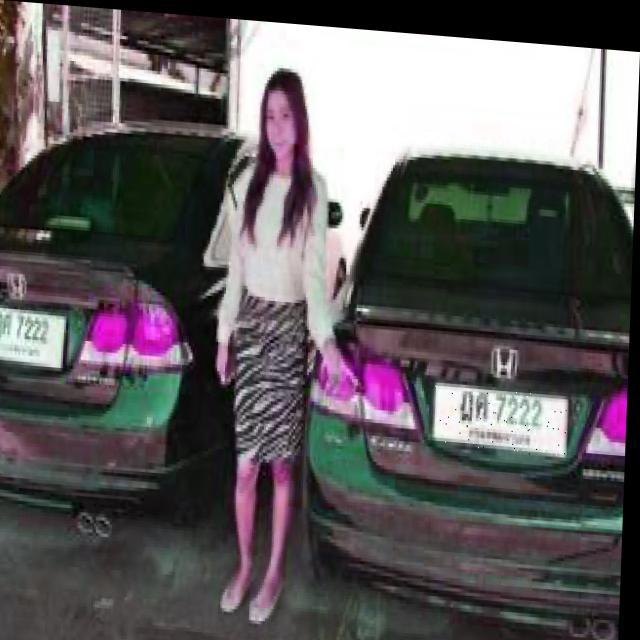license_plate: (435, 375, 571, 447)
